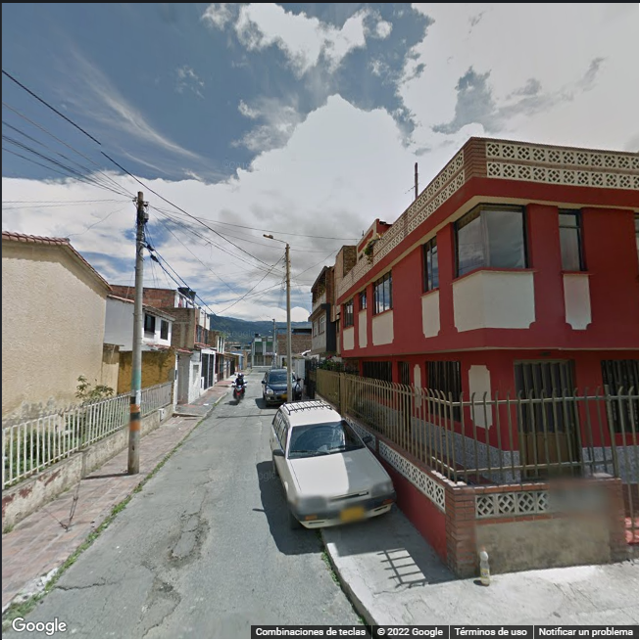D00: (86, 587, 111, 639), (195, 480, 209, 515)
D10: (52, 585, 119, 593)
D40: (138, 579, 177, 638)
